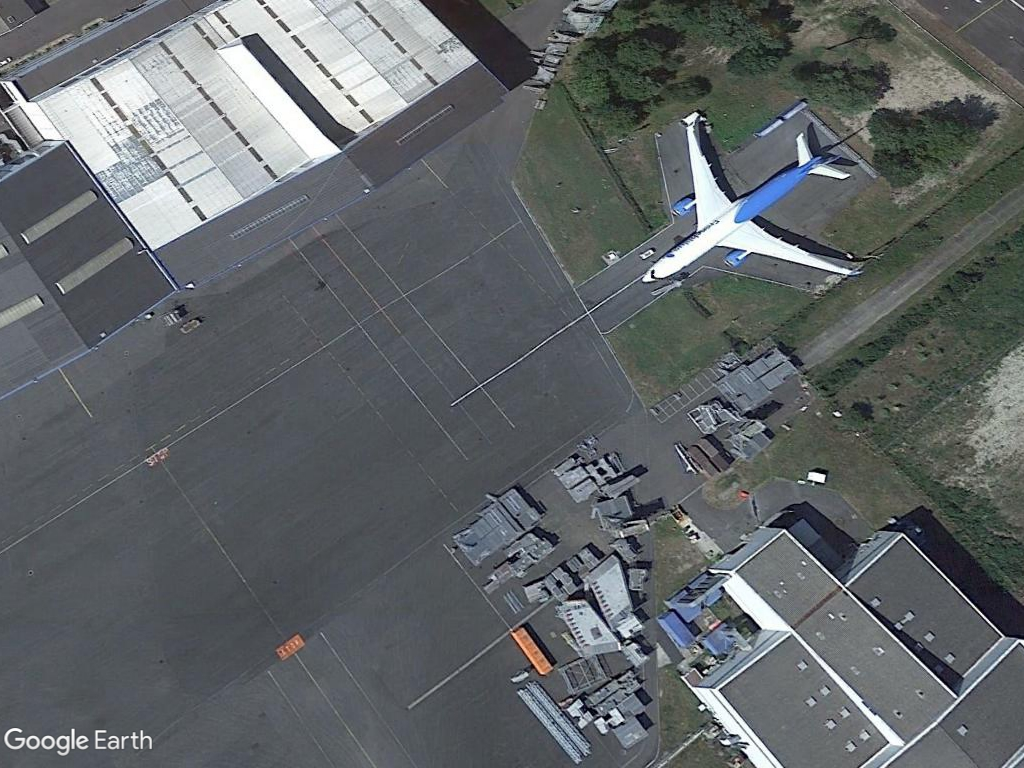airliner: (635, 105, 867, 295)
